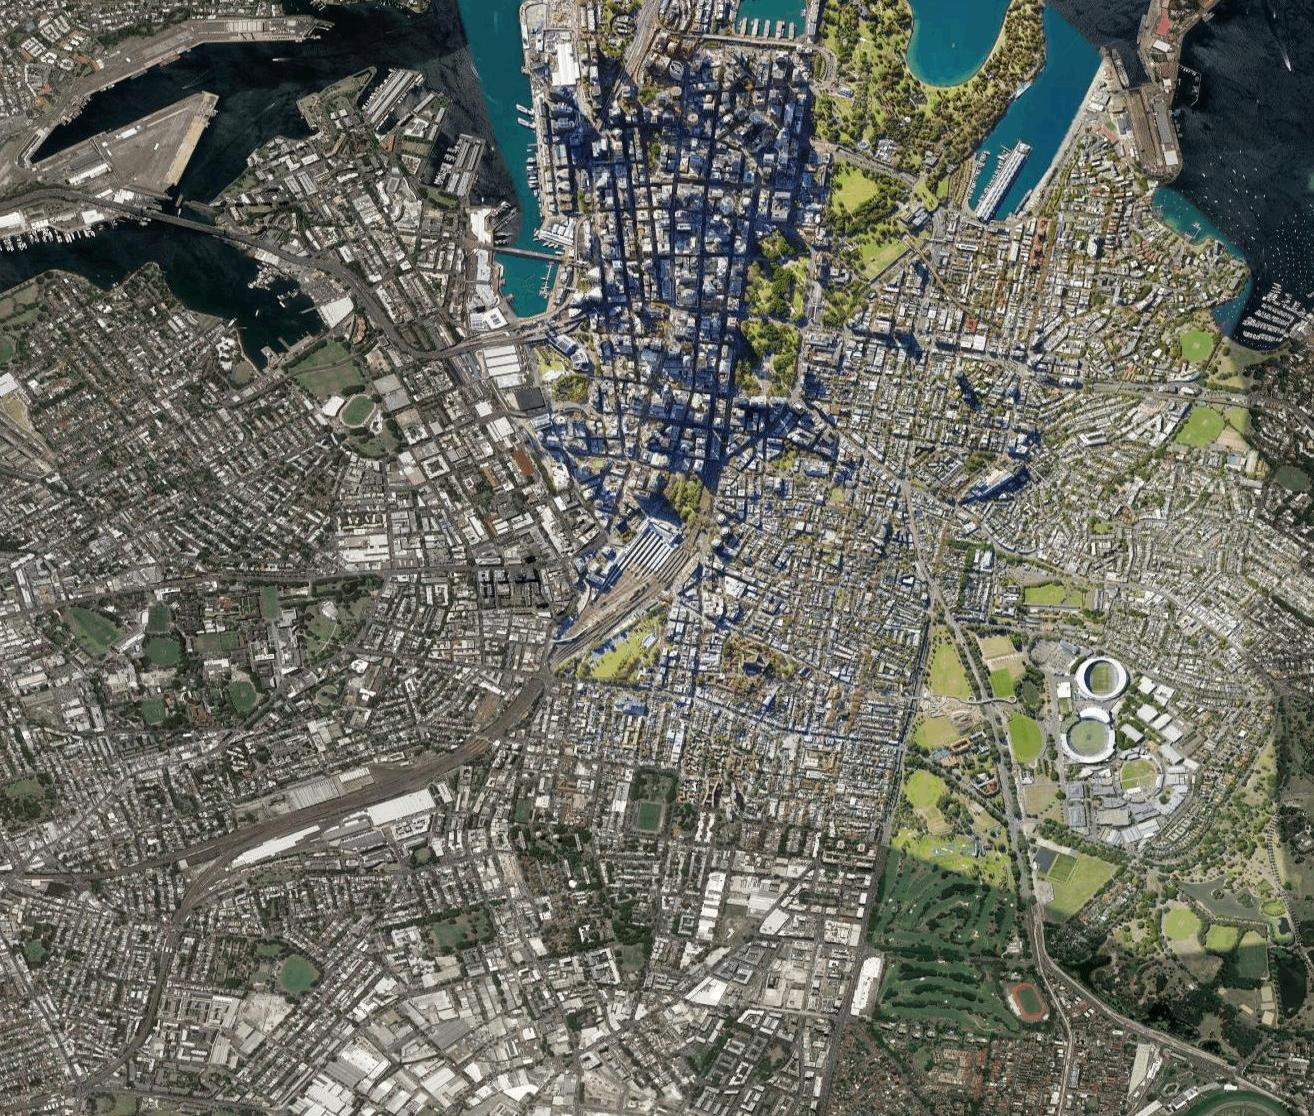bridge: (136, 198, 220, 238)
train_station: (606, 490, 703, 604)
